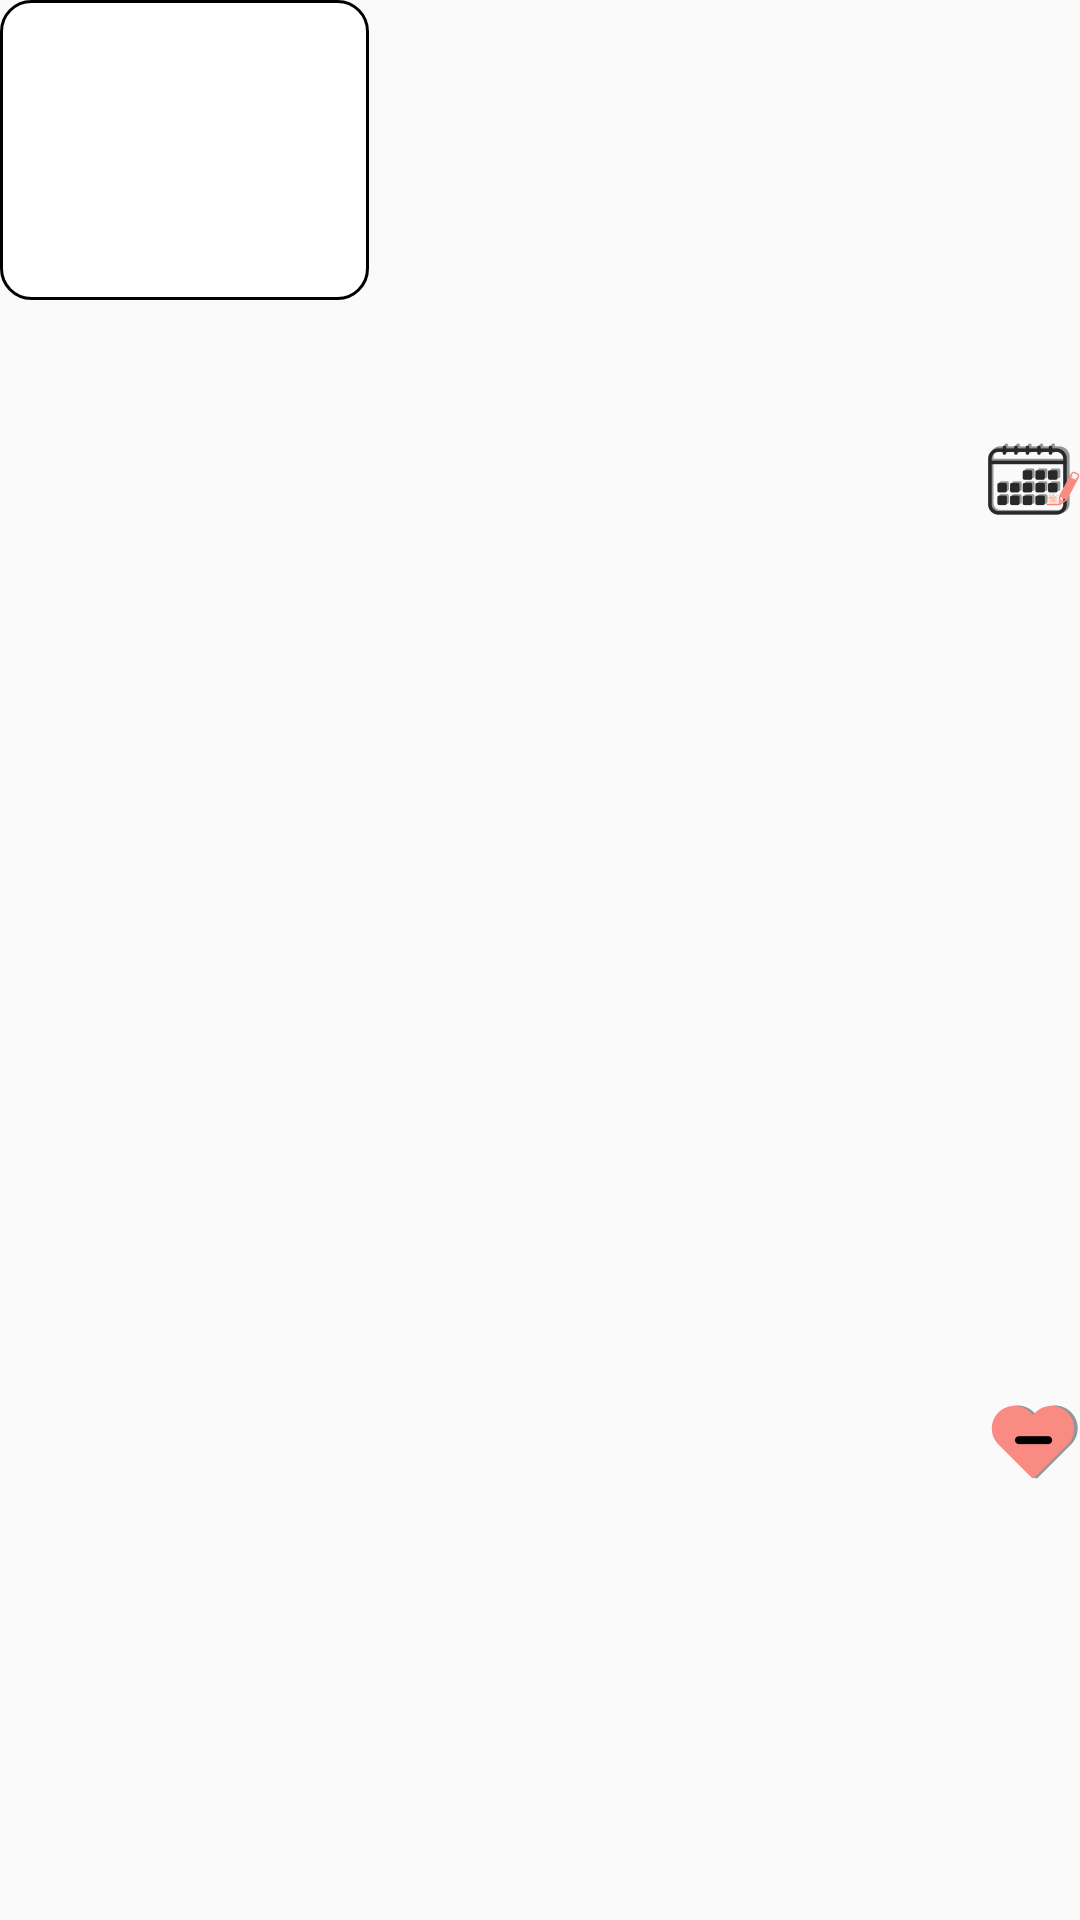

Icon click points for this 1080 x 1920 phone screenshot, format (x=x, y=y):
cancel bookmark: (x=1035, y=1442)
